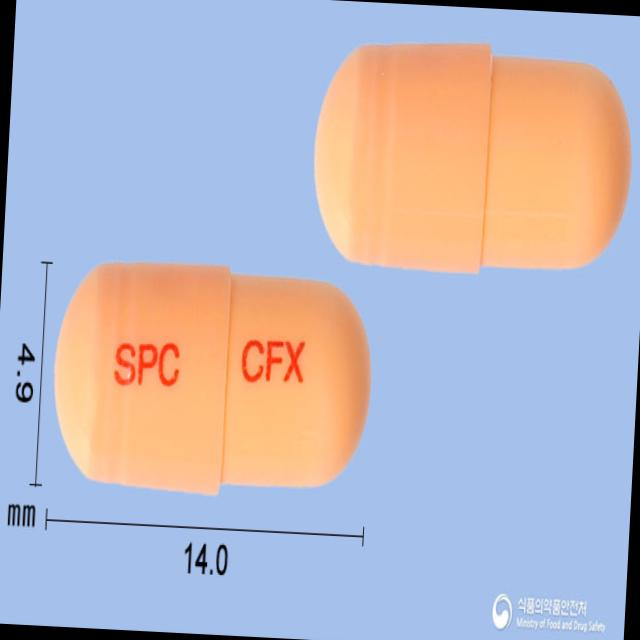Seoul Cefixime Cap: (49, 257, 378, 504)
